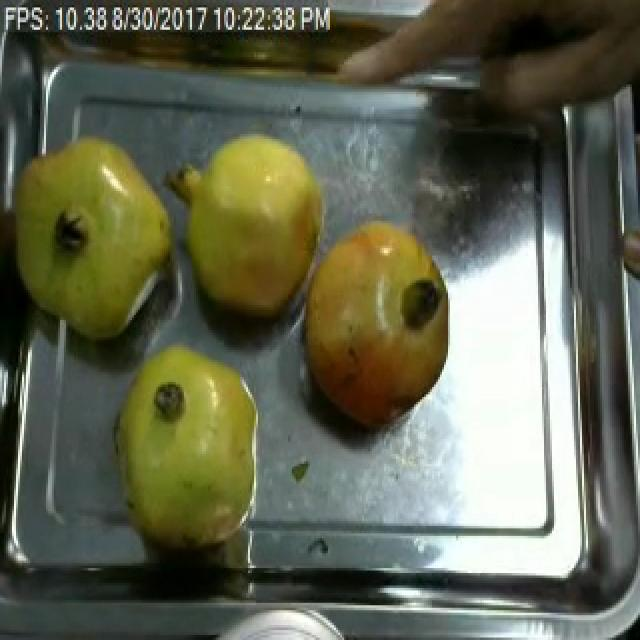fruit: (0, 122, 192, 352), (94, 322, 274, 566), (156, 112, 346, 337), (290, 201, 460, 441)
